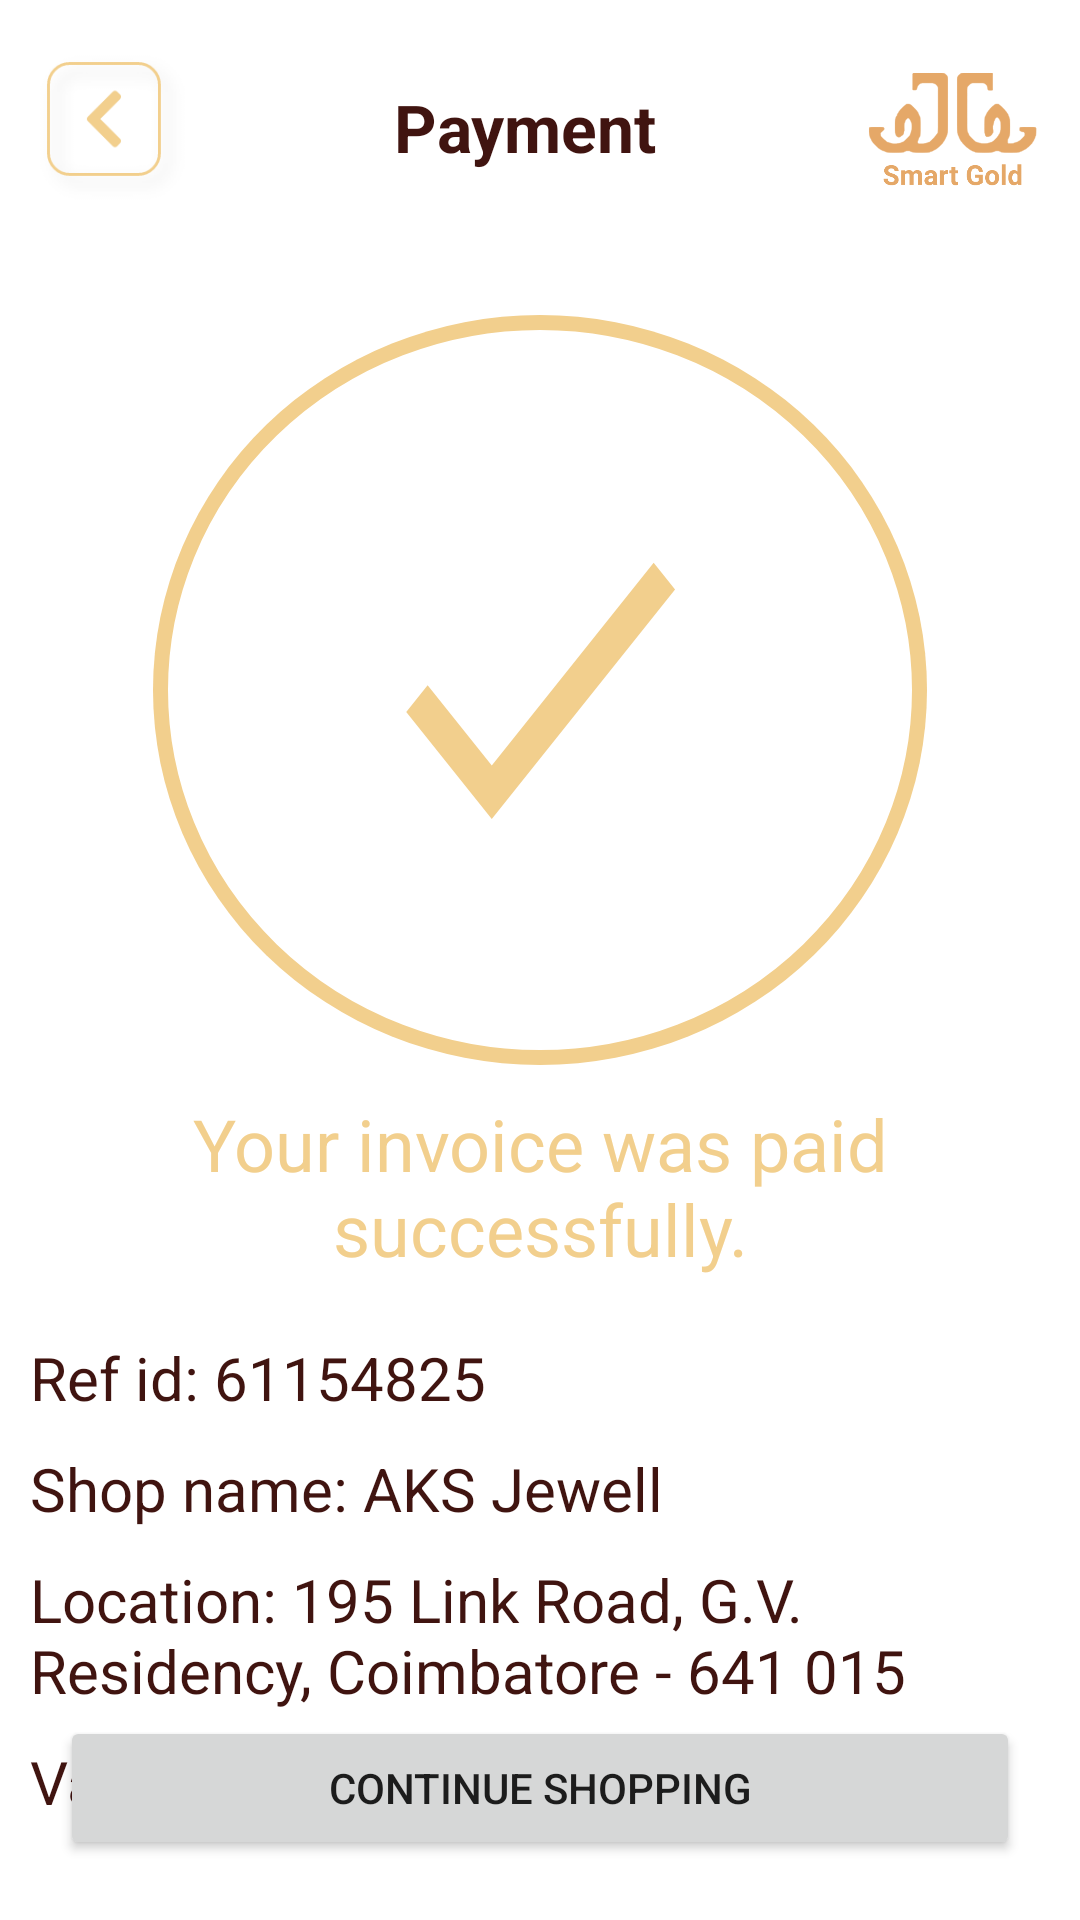

Point at icon controls on the screen. Image size 1080x1920, points as point (x, y).
backbtn: point (104, 119)
